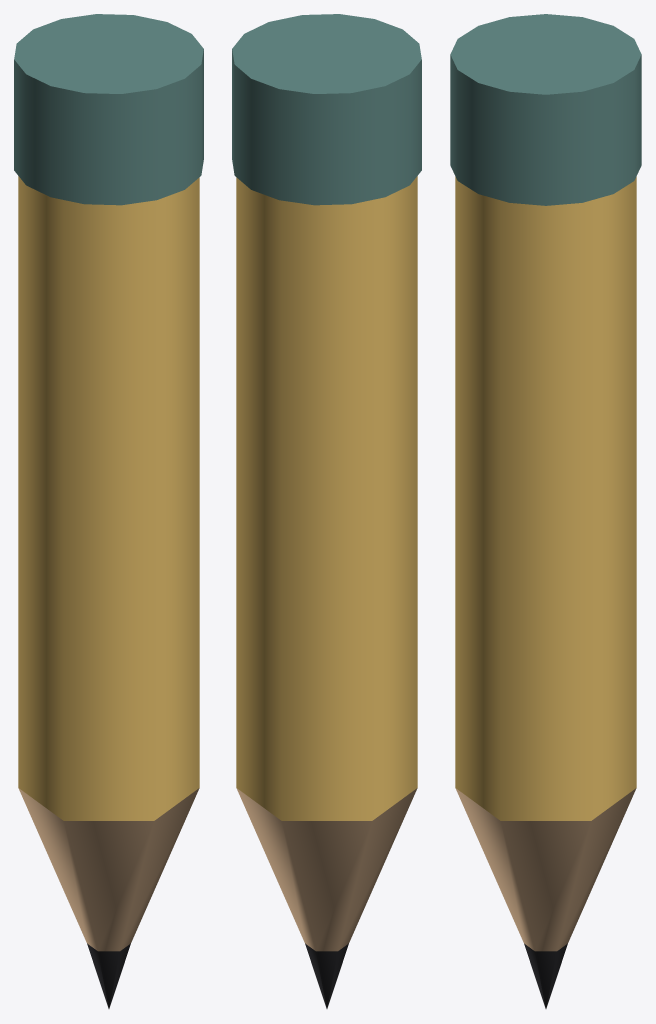
File: pencil.glb
3 views of the same model, side by side, from view 1: azimuth 30°, elevation 25°; view 2: azimuth 150°, elevation 25°; view 3: azimuth 270°, elevation 25° (orthographic).
Parts seen in each view (by area): view 1: Pencil_painted_shaft, Pencil_endcap, Pencil_wood_tip, Pencil_graphite; view 2: Pencil_painted_shaft, Pencil_endcap, Pencil_wood_tip, Pencil_graphite; view 3: Pencil_painted_shaft, Pencil_endcap, Pencil_wood_tip, Pencil_graphite.
Boxes of the visible parts, x1=… form: Pencil_painted_shaft: x1=18, y1=176, x2=199, y2=820; Pencil_endcap: x1=14, y1=14, x2=203, y2=205; Pencil_wood_tip: x1=18, y1=788, x2=199, y2=951; Pencil_graphite: x1=87, y1=943, x2=130, y2=1008; Pencil_painted_shaft: x1=236, y1=176, x2=417, y2=820; Pencil_endcap: x1=232, y1=14, x2=421, y2=205; Pencil_wood_tip: x1=236, y1=788, x2=417, y2=951; Pencil_graphite: x1=305, y1=943, x2=348, y2=1008; Pencil_painted_shaft: x1=455, y1=176, x2=636, y2=820; Pencil_endcap: x1=450, y1=14, x2=641, y2=205; Pencil_wood_tip: x1=455, y1=788, x2=636, y2=951; Pencil_graphite: x1=524, y1=943, x2=567, y2=1008.
Bounding box in the file's own units: 0.078 × 0.43 × 0.078.
